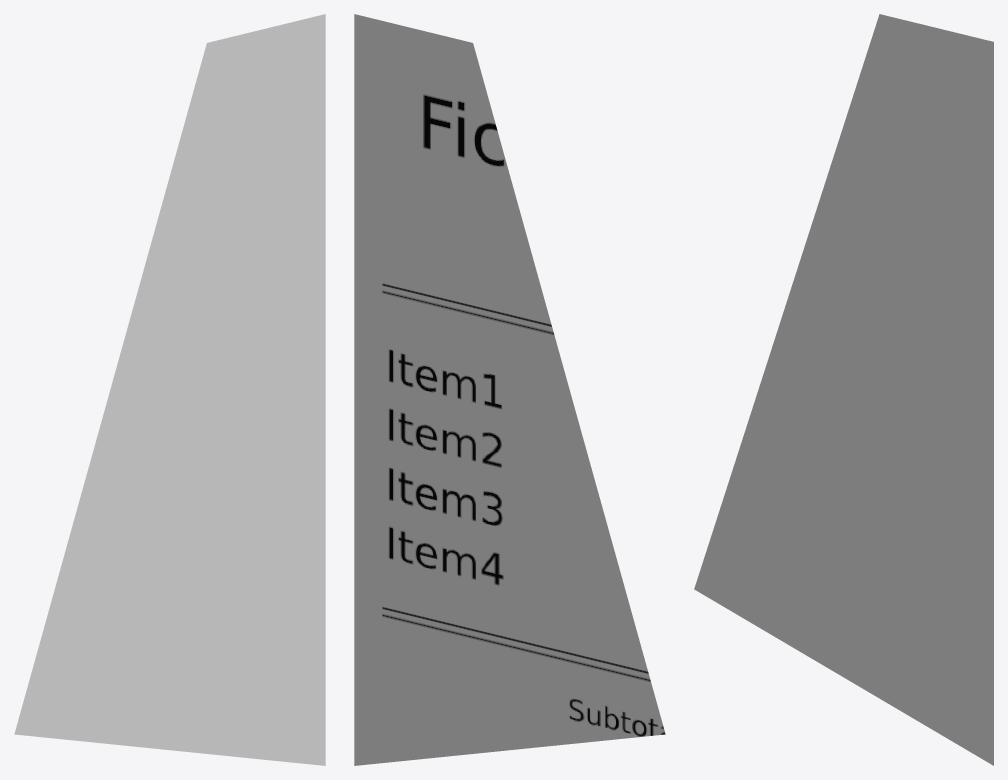
File: ReceiptPiece1.glb
3 views of the same model, side by side, from view 1: azimuth 30°, elevation 25°; view 2: azimuth 150°, elevation 25°; view 3: azimuth 330°, elevation 25° (orthographic). The views are drawn at different scales.
Visible parts, largest first — view 1: Plane.002; view 2: Plane.002; view 3: Plane.002.
Boxes of the visible parts, <box> form: Plane.002: <box>14,14,325,765</box>; Plane.002: <box>354,14,665,765</box>; Plane.002: <box>694,14,993,765</box>.
Size of the model in its own units: 0.0621 by 0.1433 by 2.71e-09.
Materials: 2 (1 with a texture image).
